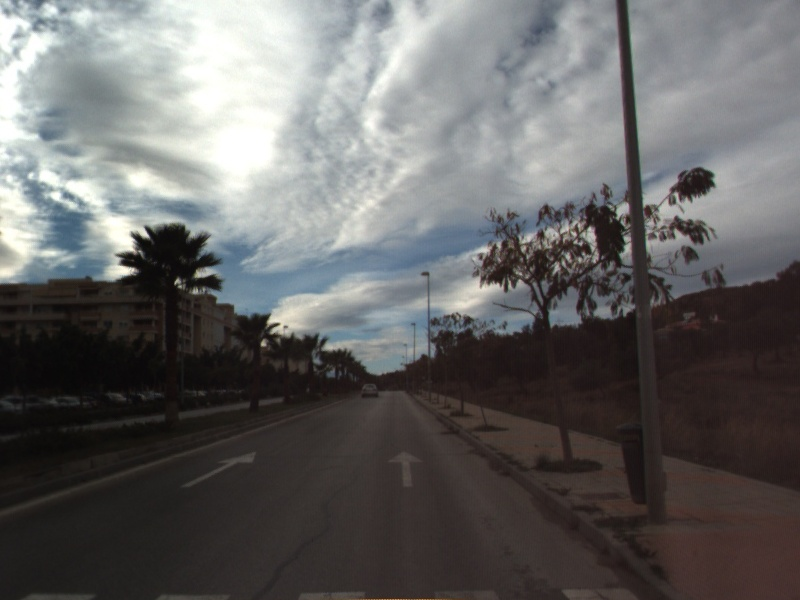STRAIGHT: (179, 450, 258, 489), (386, 449, 426, 489)
